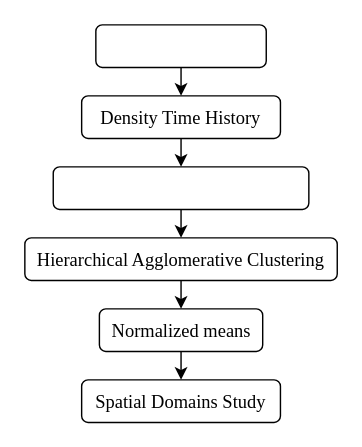
Image size: 362x447. Some labels were removed from this diagram. Here are the shapes that lost their labels. From the top down, the box of each, then its label:
(94, 23, 266, 67): The Catalogue
(52, 165, 309, 209): Normalized Distance Matrix
